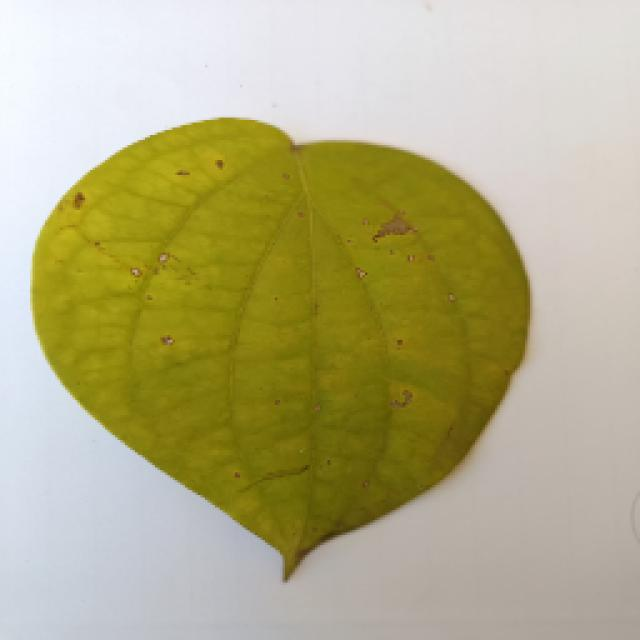slow-decline: (20, 120, 535, 585)
